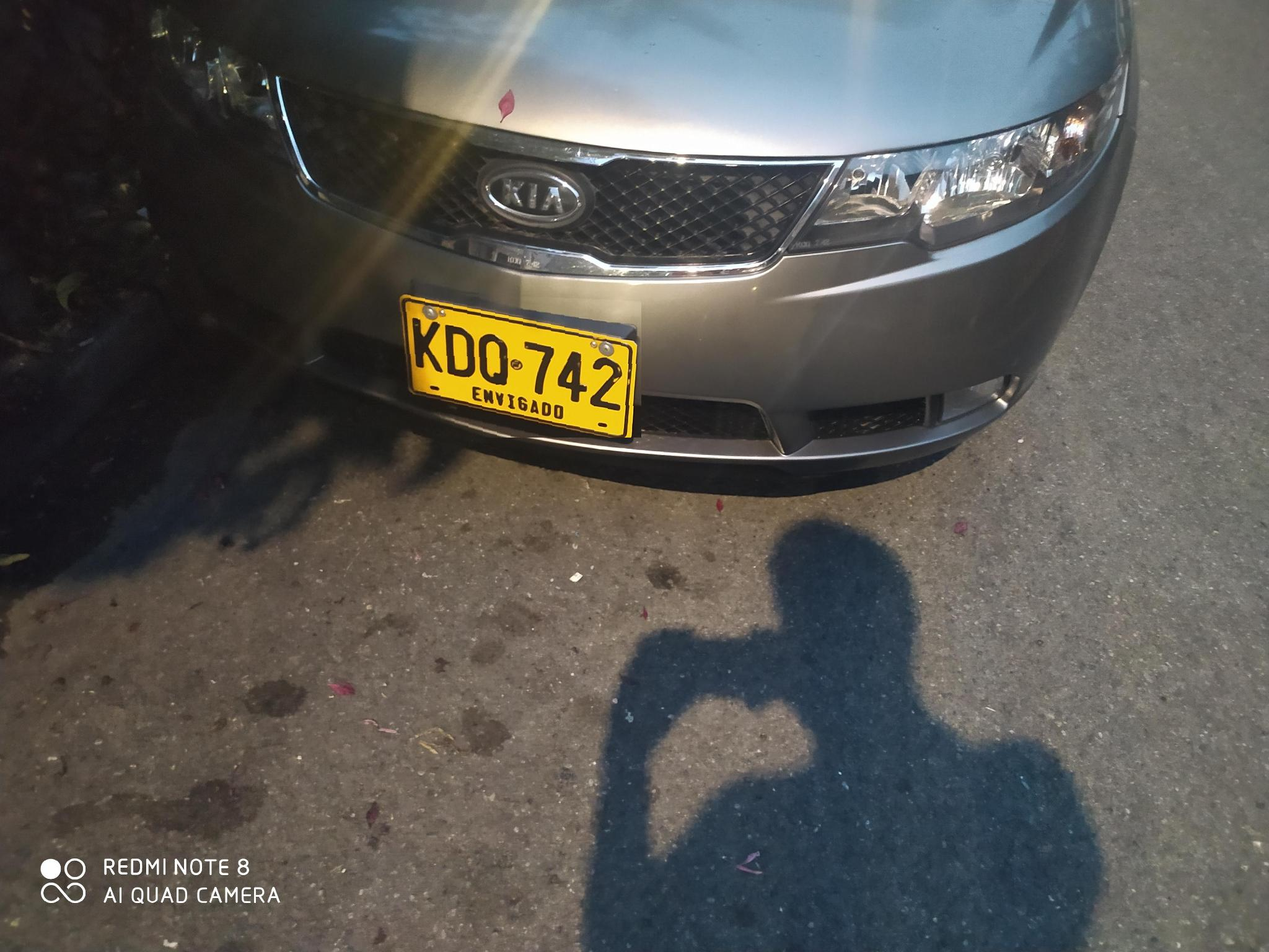placa: (390, 290, 641, 438)
